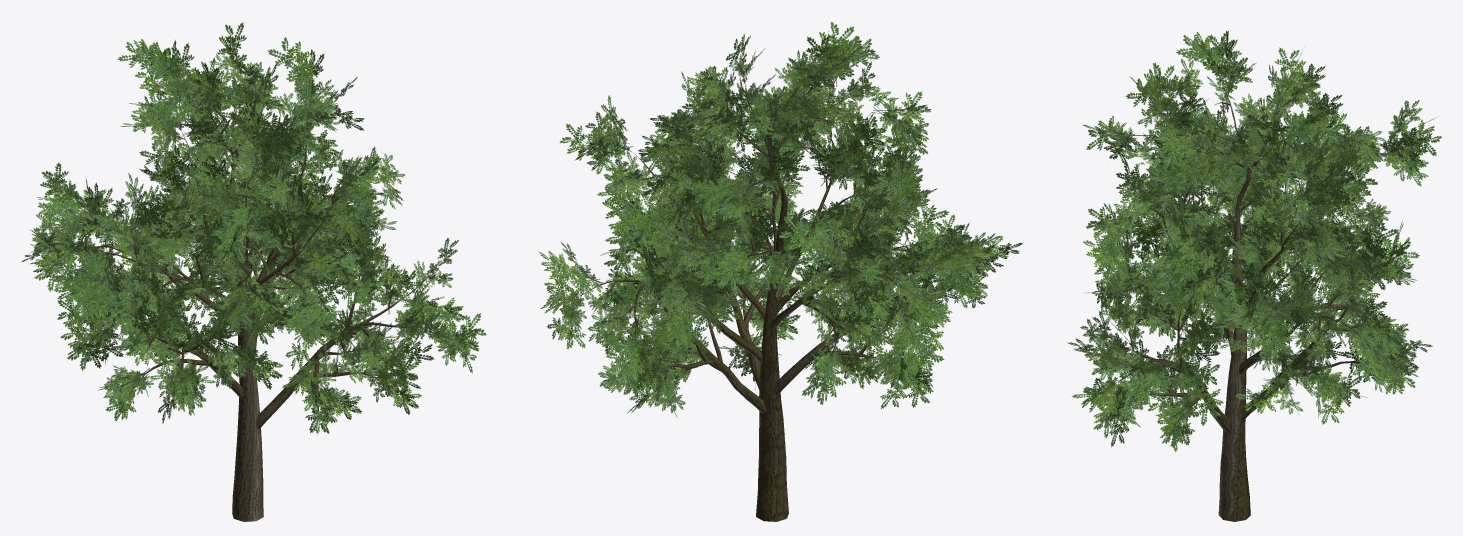
The model's file is trees_c.glb.
3 views of the same model, side by side, from view 1: azimuth 30°, elevation 25°; view 2: azimuth 150°, elevation 25°; view 3: azimuth 270°, elevation 25° (orthographic). The views are drawn at different scales.
Parts seen in each view (by area): view 1: Mesh_1.007, Mesh_0.007; view 2: Mesh_1.007, Mesh_0.007; view 3: Mesh_1.007, Mesh_0.007.
Boxes of the visible parts, bbox=[...] form: Mesh_1.007: bbox=[21, 22, 486, 434]; Mesh_0.007: bbox=[56, 72, 427, 521]; Mesh_1.007: bbox=[539, 22, 1022, 416]; Mesh_0.007: bbox=[580, 67, 948, 521]; Mesh_1.007: bbox=[1067, 30, 1441, 452]; Mesh_0.007: bbox=[1109, 62, 1392, 521].
Bounding box in the file's own units: 0.932 × 1 × 0.7541.
Materials: 2 (2 with a texture image).
